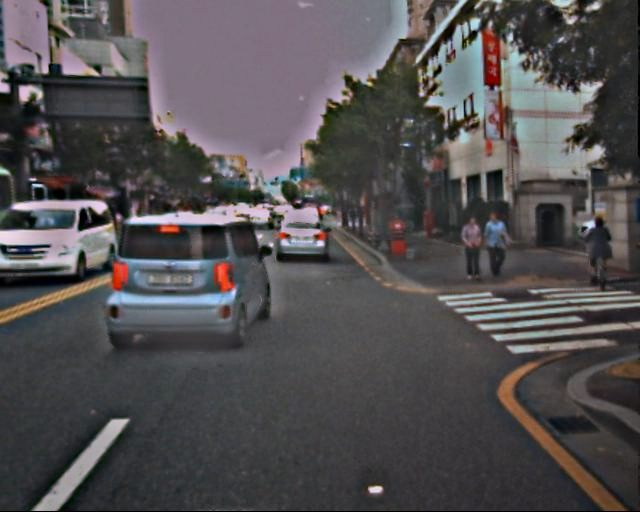person: (583, 215, 611, 284), (483, 211, 510, 278), (460, 215, 487, 282)
